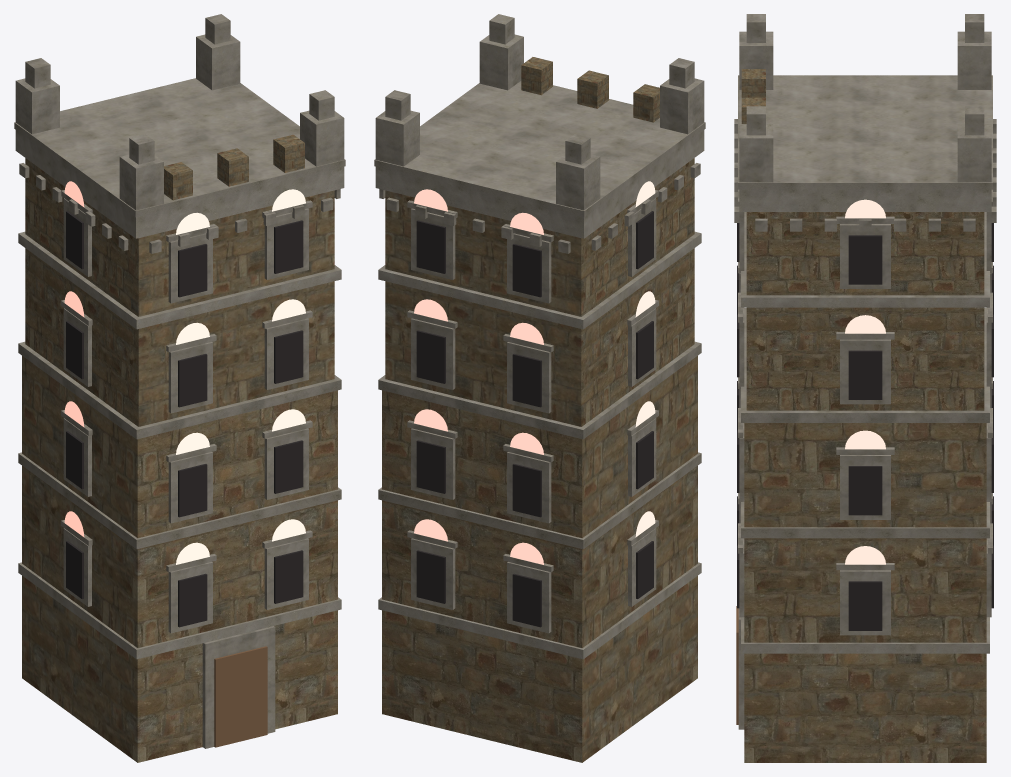
The model's file is taiz_house_a.glb.
3 views of the same model, side by side, from view 1: azimuth 30°, elevation 25°; view 2: azimuth 150°, elevation 25°; view 3: azimuth 270°, elevation 25° (orthographic). The views are drawn at different scales.
Parts seen in each view (by area): view 1: taiz_house_a; view 2: taiz_house_a; view 3: taiz_house_a.
Boxes of the visible parts, x1,y1,x2,y2 form: taiz_house_a: (14, 14, 345, 762); taiz_house_a: (374, 14, 705, 762); taiz_house_a: (734, 14, 996, 762).
Bounding box in the file's own units: 2.16 × 5.89 × 2.16.
Materials: 5 (2 with a texture image).
